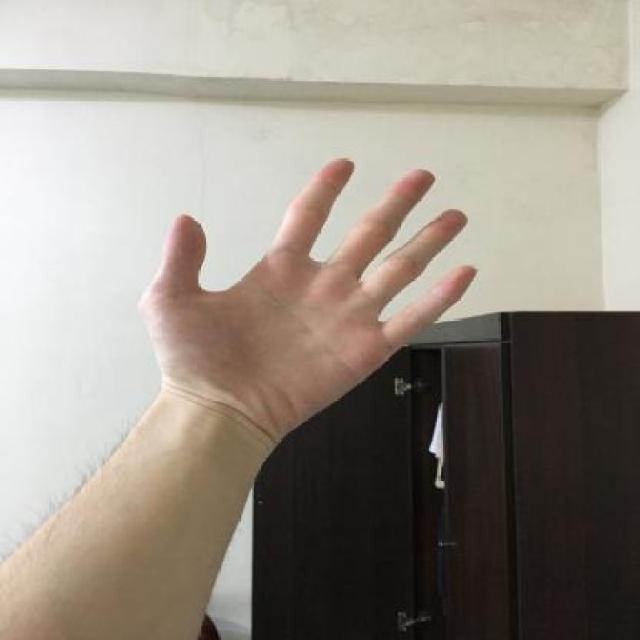bare_hand: (130, 140, 487, 462)
